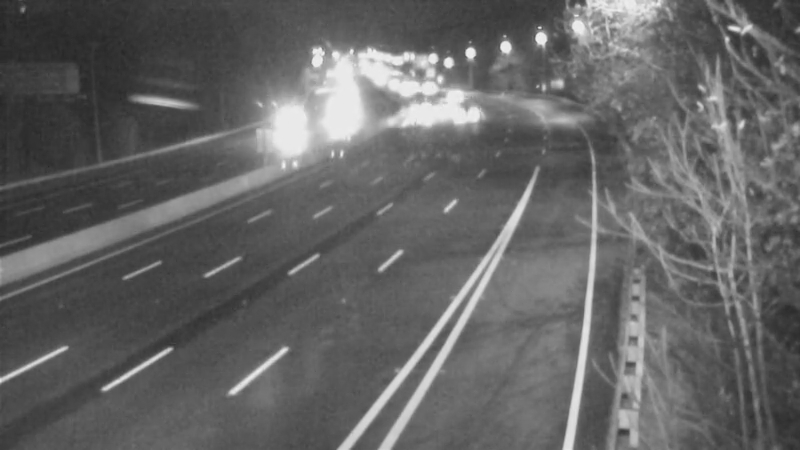vehicle: (424, 68, 474, 118), (425, 82, 475, 132), (443, 88, 493, 138), (389, 87, 439, 137), (385, 93, 435, 143), (259, 108, 309, 158), (306, 100, 356, 150)
